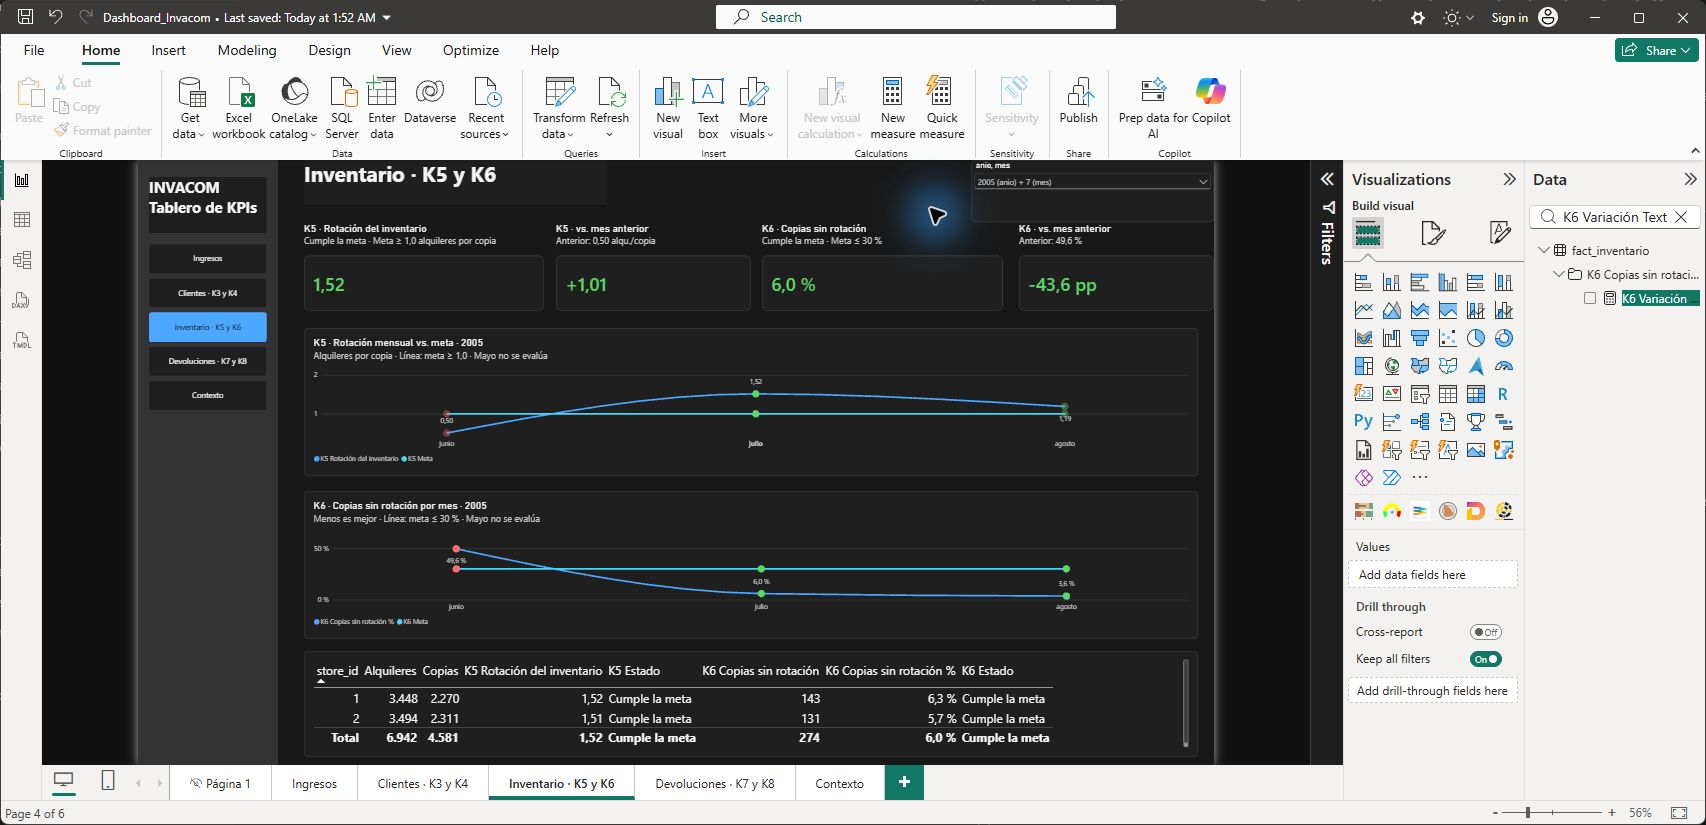

The page's visual inventory and layout, read from the dashboard file:
{"tool":"powerbi","page":{"name":"Inventario · K5 y K6","canvas":[1920,1080],"ordinal":3},"visuals":[{"type":"shape","box":[0,0,250,1080],"z":0},{"type":"pageNavigator","box":[20,150,210,300],"z":1},{"type":"textbox","box":[20,30,210,100],"z":2},{"type":"tableEx","fields":{"Values":["dim_tienda.store_id","fact_alquiler.Alquileres","fact_inventario.Copias","fact_alquiler.K5 Rotación del inventario","fact_alquiler.K5 Estado","fact_inventario.K6 Copias sin rotación","fact_inventario.K6 Copias sin rotación %","fact_inventario.K6 Estado"]},"box":[296.3,855.1,1595.9,189.2],"z":3},{"type":"slicer","fields":{"Values":["dim_fecha.anio","dim_fecha.mes"]},"box":[1487,0,433.8,110.7],"z":4},{"type":"cardVisual","title":"K5 · Rotación del inventario","fields":{"Data":["fact_alquiler.K5 Texto"]},"box":[296.3,110.7,785.5,230.3],"z":5},{"type":"cardVisual","title":"K6 · Copias sin rotación","fields":{"Data":["fact_inventario.K6 Texto"]},"box":[1113.9,110.7,778.3,230.3],"z":6},{"type":"textbox","box":[296.3,0,540.9,80.3],"z":7},{"type":"lineClusteredColumnComboChart","title":"K5 · Rotación mensual vs. meta · 2005","fields":{"Category":["dim_fecha.nombre_mes"],"Y":["fact_alquiler.K5 Rotación del inventario"],"Y2":["fact_alquiler.K5 Meta"]},"box":[296.3,376.7,785.5,453.4],"z":8},{"type":"lineClusteredColumnComboChart","title":"K6 · Copias sin rotación por mes · 2005","fields":{"Category":["dim_fecha.nombre_mes"],"Y":["fact_inventario.K6 Copias sin rotación %"],"Y2":["fact_inventario.K6 Meta"]},"box":[1113.9,376.7,785.5,453.4],"z":9}]}

Visuals, with their boxes on the page's 1920x1080 design canvas (x1, y1, x2, y2). These are canvas units, not pixel positions in the 1706x825 screenshot, which may show the page scaled, cropped or inside an application window:
shape: box(0, 0, 250, 1080)
pageNavigator: box(20, 150, 230, 450)
textbox: box(20, 30, 230, 130)
tableEx - dim_tienda.store_id x fact_alquiler.Alquileres: box(296, 855, 1892, 1044)
slicer - dim_fecha.anio x dim_fecha.mes: box(1487, 0, 1921, 111)
"K5 · Rotación del inventario" cardVisual: box(296, 111, 1082, 341)
"K6 · Copias sin rotación" cardVisual: box(1114, 111, 1892, 341)
textbox: box(296, 0, 837, 80)
"K5 · Rotación mensual vs. meta · 2005" lineClusteredColumnComboChart: box(296, 377, 1082, 830)
"K6 · Copias sin rotación por mes · 2005" lineClusteredColumnComboChart: box(1114, 377, 1899, 830)
